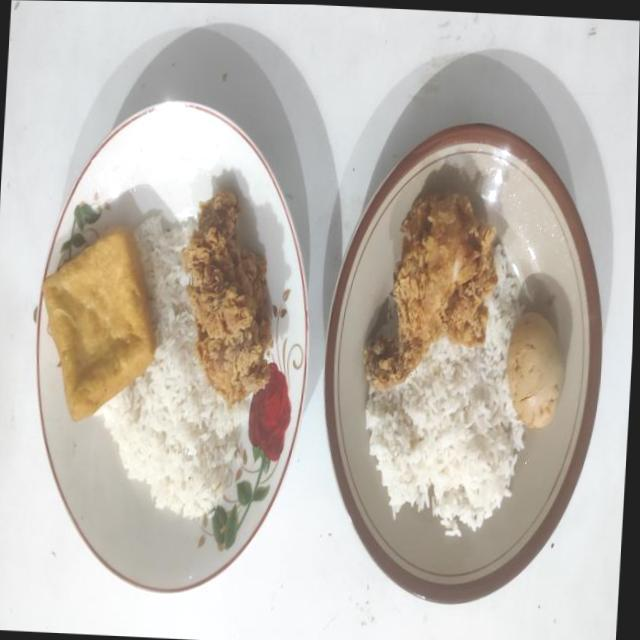nasi_putih: (365, 244, 523, 536), (96, 216, 248, 519)
tahu_goreng: (42, 227, 155, 420)
